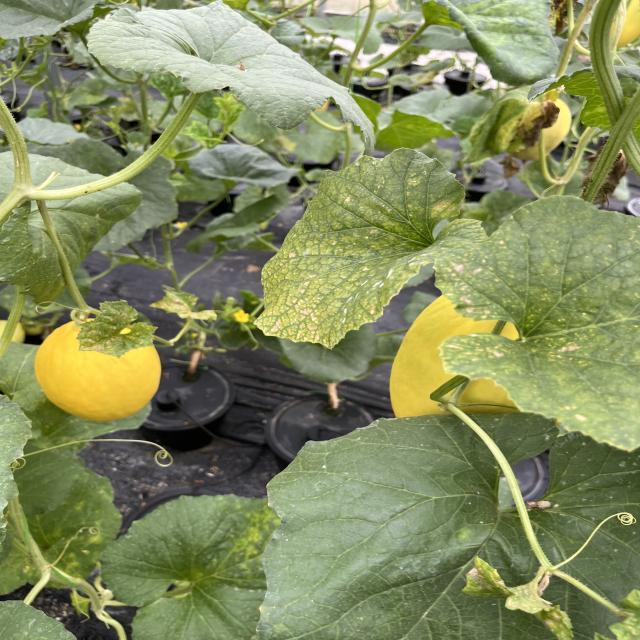CMV: (247, 142, 508, 345), (80, 0, 342, 139)
alternaria leaf blight: (75, 298, 161, 358)
downy mildew: (432, 192, 640, 454), (251, 146, 493, 353)
powdery mildew: (256, 415, 640, 640)
